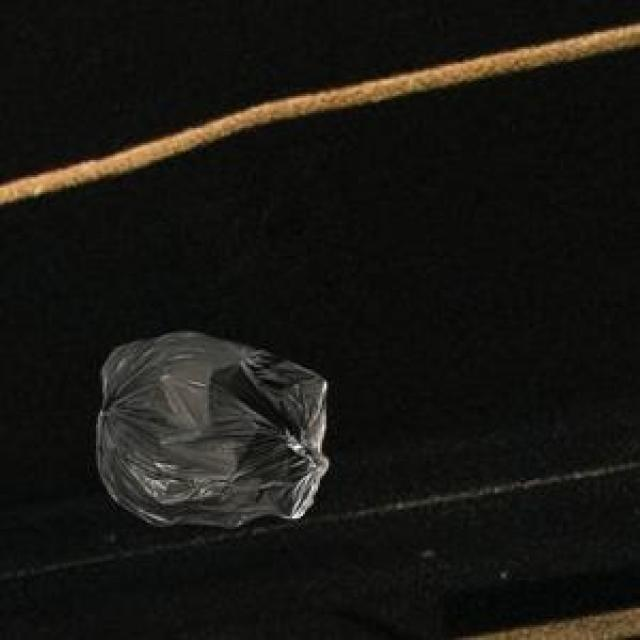waste: (96, 332, 329, 527)
